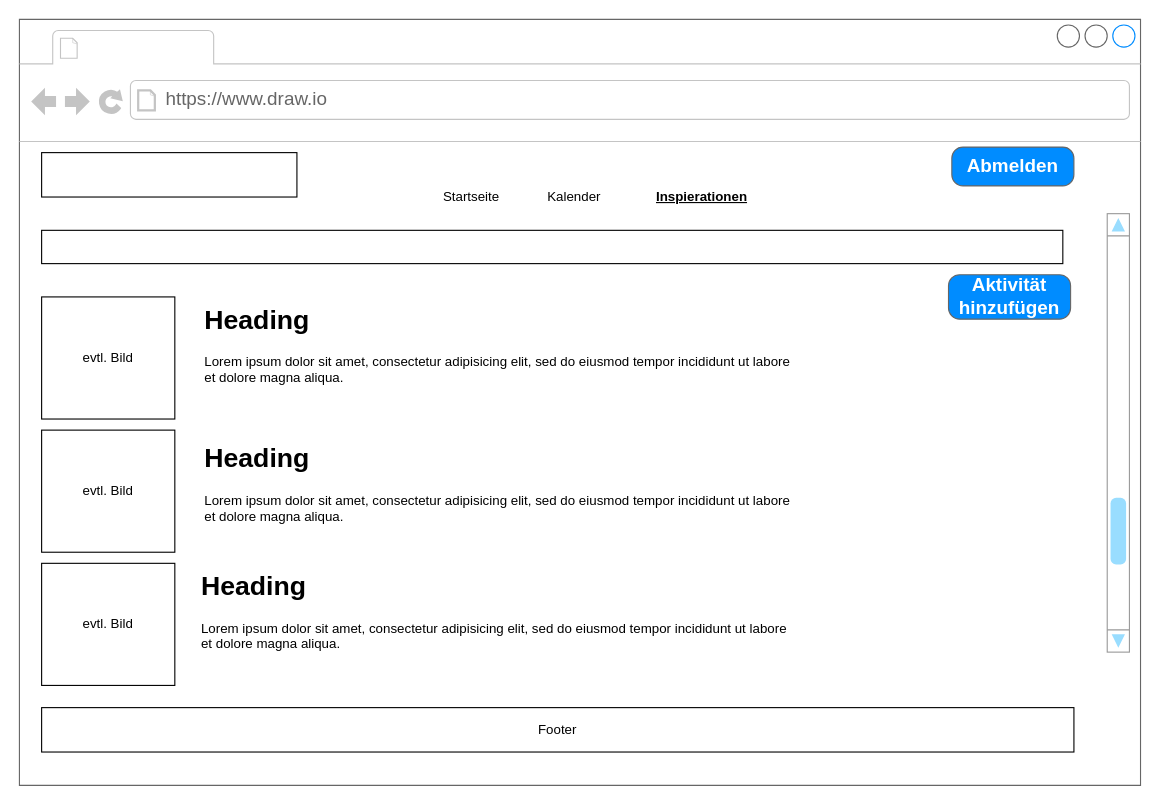
Image size: 1160x805. Some labels were removed from this diagram. Here are the shapes that lost their labels. From the top down, the box of each, then its label:
(85, 32, 208, 62): Page 1
(41, 152, 297, 197): Logo
(41, 229, 1063, 264): Erklärung für was diese Seite gedacht ist
